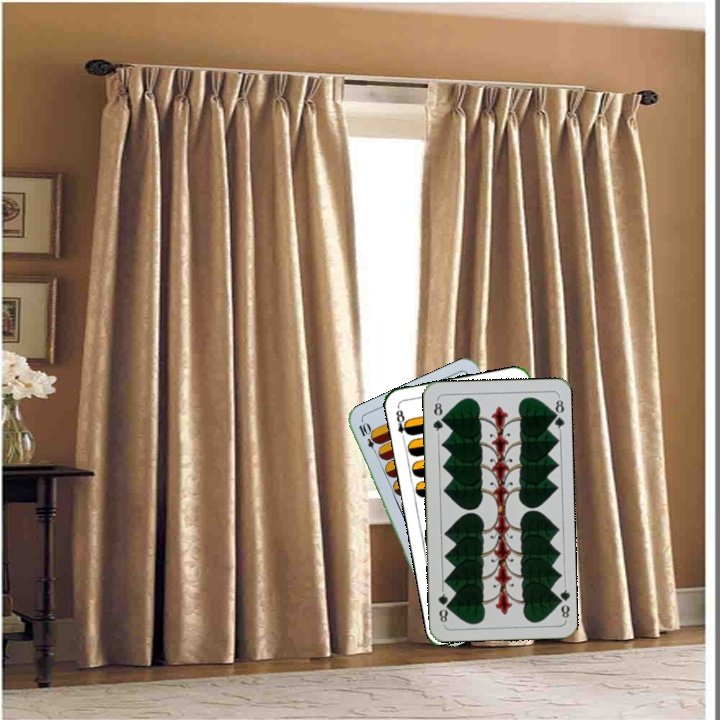E10: (355, 419, 381, 458)
E8: (392, 403, 413, 443)
G8: (552, 582, 572, 622), (429, 396, 446, 437)
